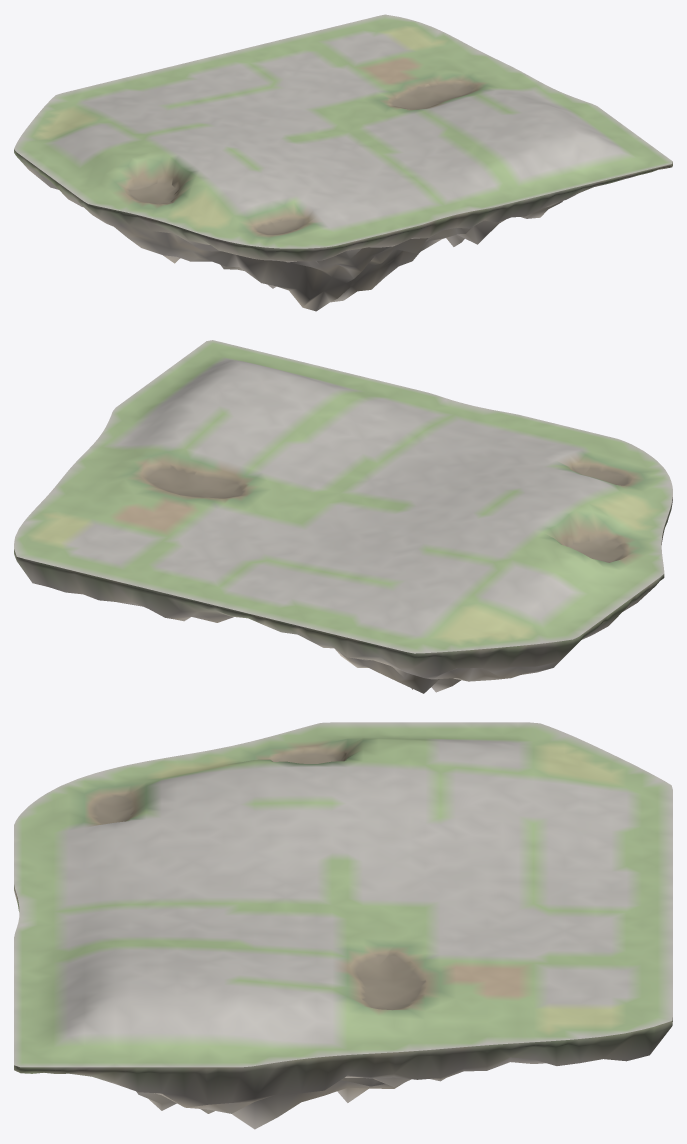
File: SKY-075.rock.glb
The picture shows the model from 3 angles, top to bottom: view 1: azimuth 30°, elevation 25°; view 2: azimuth 150°, elevation 25°; view 3: azimuth 270°, elevation 25°; orthographic projection. The views are drawn at different scales.
Visible parts, largest first — view 1: deck-col, rock; view 2: deck-col, rock; view 3: deck-col, rock.
Boxes of the visible parts, bbox=[...] form: deck-col: bbox=[14, 14, 672, 248]; rock: bbox=[14, 149, 672, 311]; deck-col: bbox=[14, 340, 672, 653]; rock: bbox=[14, 497, 672, 693]; deck-col: bbox=[14, 722, 672, 1067]; rock: bbox=[14, 885, 672, 1129].
Bounding box in the file's own units: 211 × 66.98 × 170.
